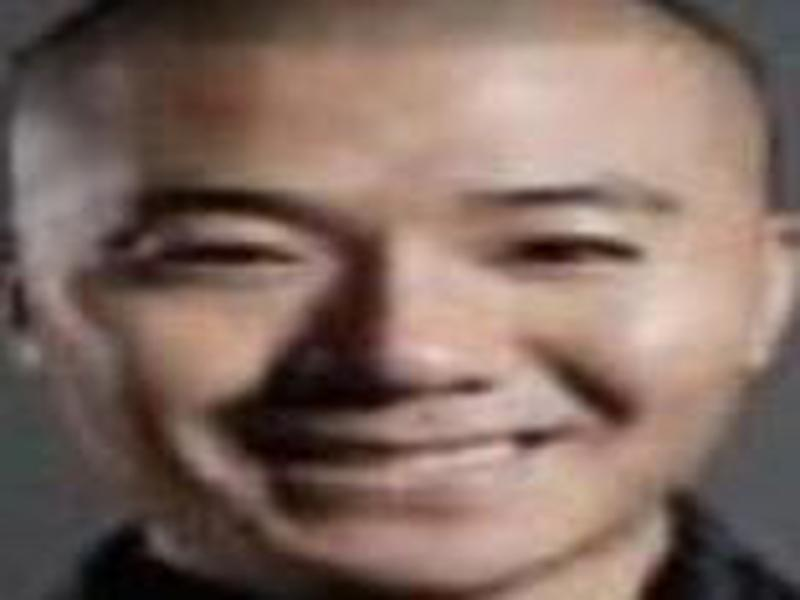without_mask: (33, 76, 744, 578)
